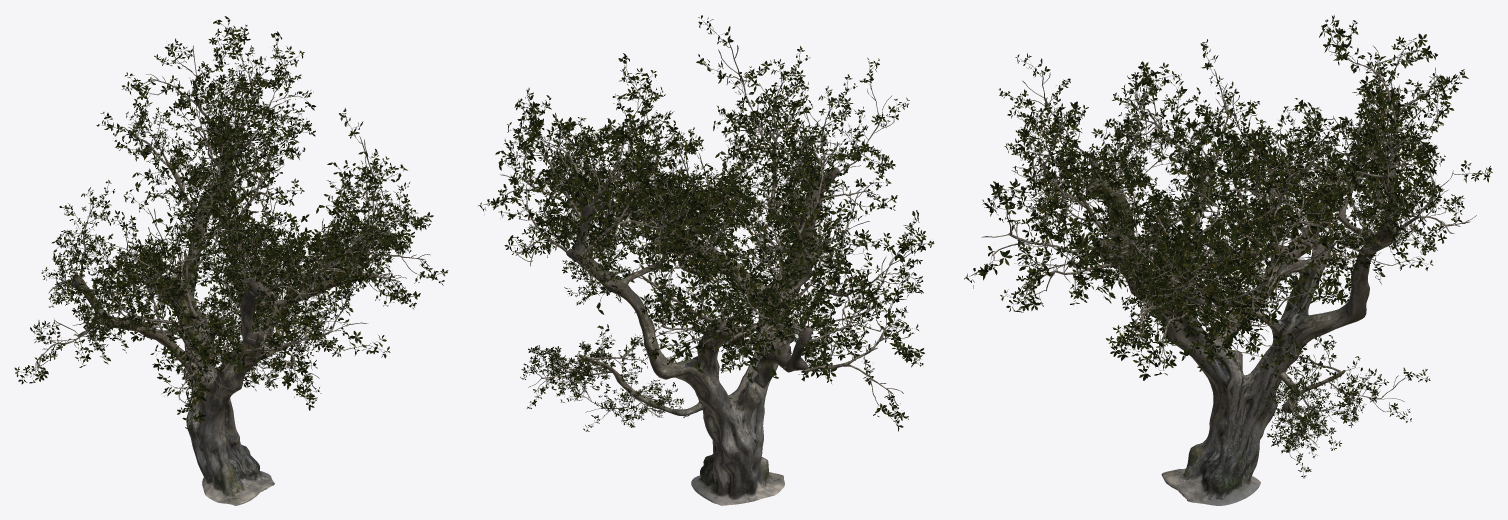
File: island_tree_01_LOD1.glb
The picture shows the model from 3 angles, left to right: view 1: azimuth 30°, elevation 25°; view 2: azimuth 150°, elevation 25°; view 3: azimuth 270°, elevation 25°; orthographic projection. The views are drawn at different scales.
Parts seen in each view (by area): view 1: island_tree_01_LOD1__lod0; view 2: island_tree_01_LOD1__lod0; view 3: island_tree_01_LOD1__lod0.
Part boxes in pixels (x1=…): island_tree_01_LOD1__lod0: x1=14, y1=16, x2=448, y2=505; island_tree_01_LOD1__lod0: x1=478, y1=15, x2=934, y2=505; island_tree_01_LOD1__lod0: x1=964, y1=15, x2=1492, y2=505.
Size of what is drawn, in the model's own units: 4.76 by 5.03 by 4.82.
Materials: 3 (3 with a texture image).
